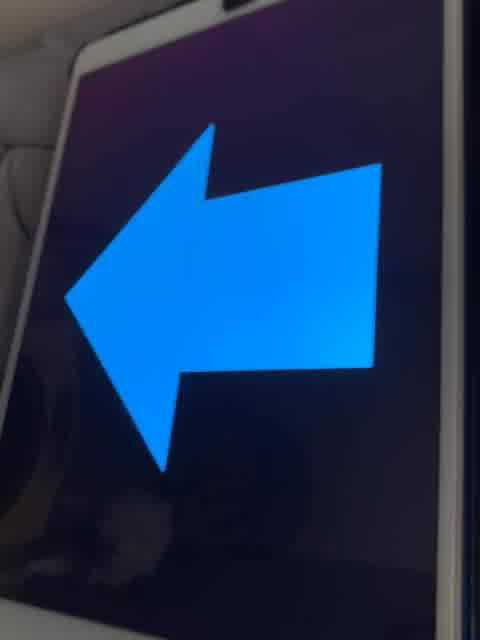left: (57, 115, 385, 480)
